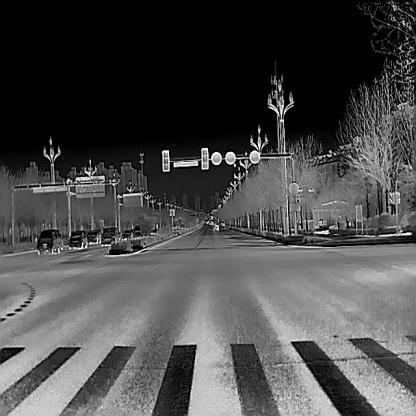car: (36, 228, 62, 255), (100, 226, 121, 245), (68, 229, 87, 249), (86, 227, 101, 243), (132, 225, 148, 238), (122, 228, 133, 240), (213, 224, 219, 232)
light: (159, 149, 175, 174), (200, 146, 209, 171)
sign: (223, 149, 239, 168), (207, 148, 223, 166), (248, 147, 262, 166)
